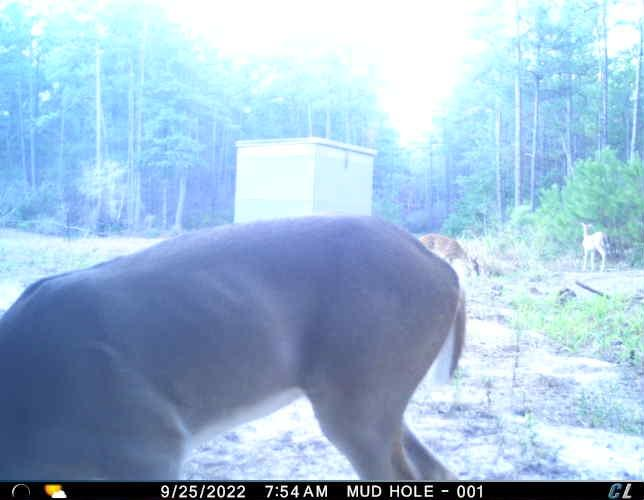Deer: (2, 210, 468, 480), (420, 228, 483, 281), (571, 217, 611, 276)
